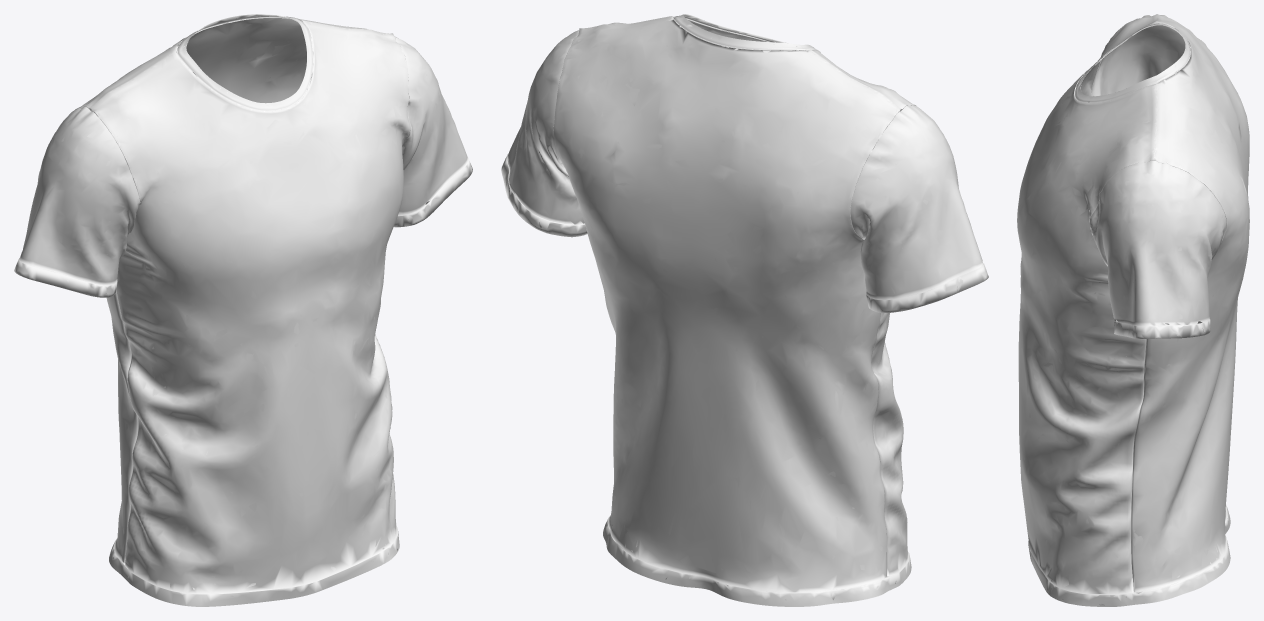
File: tshirt.ba5dbc7fb5.glb
The picture shows the model from 3 angles, left to right: view 1: azimuth 30°, elevation 25°; view 2: azimuth 150°, elevation 25°; view 3: azimuth 270°, elevation 25°; orthographic projection. The views are drawn at different scales.
Visible parts, largest first — view 1: T_Shirt_exterieur_ext_0_0, T_Shirt_int_int_0_1; view 2: T_Shirt_exterieur_ext_0_0, T_Shirt_int_int_0_1; view 3: T_Shirt_exterieur_ext_0_0, T_Shirt_int_int_0_1.
Boxes of the visible parts, x1=… form: T_Shirt_exterieur_ext_0_0: x1=14, y1=15, x2=472, y2=606; T_Shirt_int_int_0_1: x1=25, y1=14, x2=462, y2=596; T_Shirt_exterieur_ext_0_0: x1=501, y1=14, x2=988, y2=606; T_Shirt_int_int_0_1: x1=506, y1=14, x2=976, y2=600; T_Shirt_exterieur_ext_0_0: x1=1017, y1=14, x2=1249, y2=606; T_Shirt_int_int_0_1: x1=1019, y1=17, x2=1249, y2=605.
Bounding box in the file's own units: 0.6394 × 0.6992 × 0.2895.
2 materials, 2 textured.
